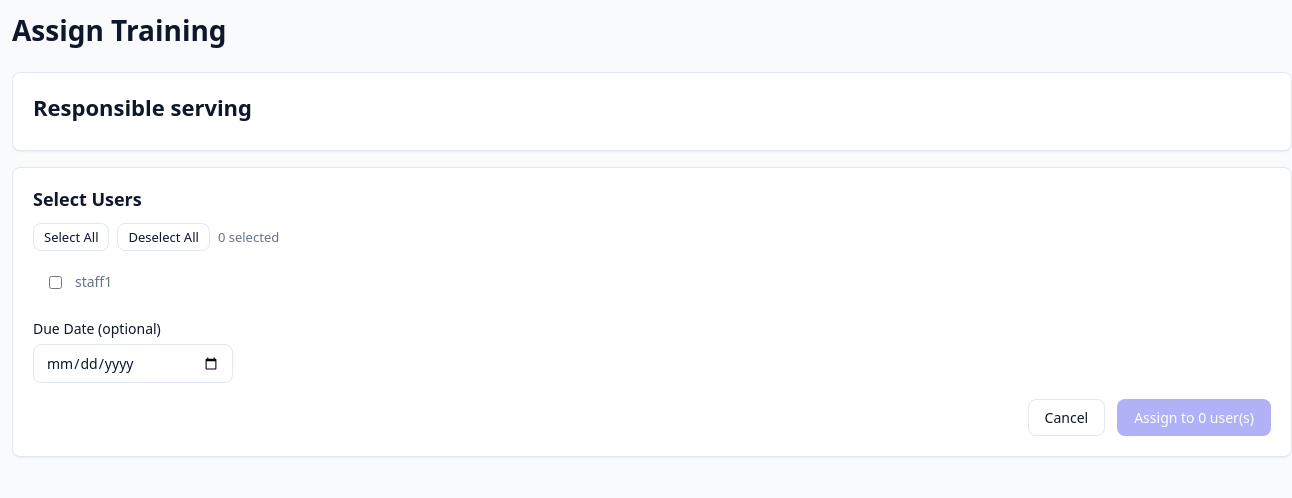
Test: TrainingAssignView › shows a validation message when trying to assign without selecting users
The width and height of the screenshot is (1292, 498).
Check: the heading "Responsible serving" is shown, box [33,92,252,122]
What coordinates should you click on to do the following:
click the button "Select All"
I would click on:
 (71, 237)
Its box is [33,223,110,251].
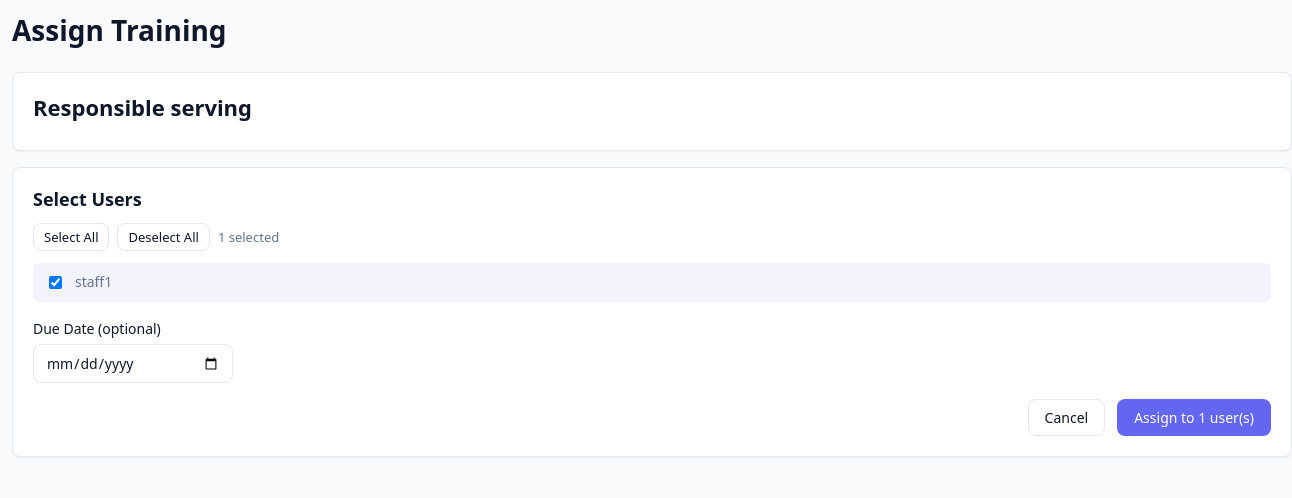
What coordinates should you click on to do the following:
click the button "Deselect All"
I would click on:
 (164, 237)
Its box is [118,223,210,251].
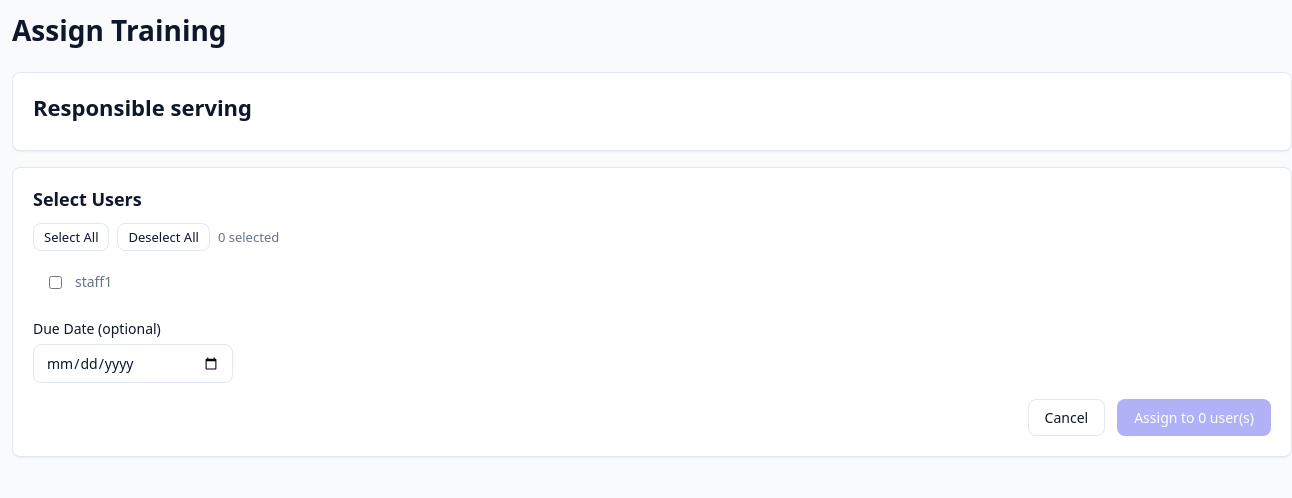
What coordinates should you click on to do the following:
click the button "Assign to 0 user(s)"
I would click on:
 (1194, 418)
Its box is [1117,399,1271,436].
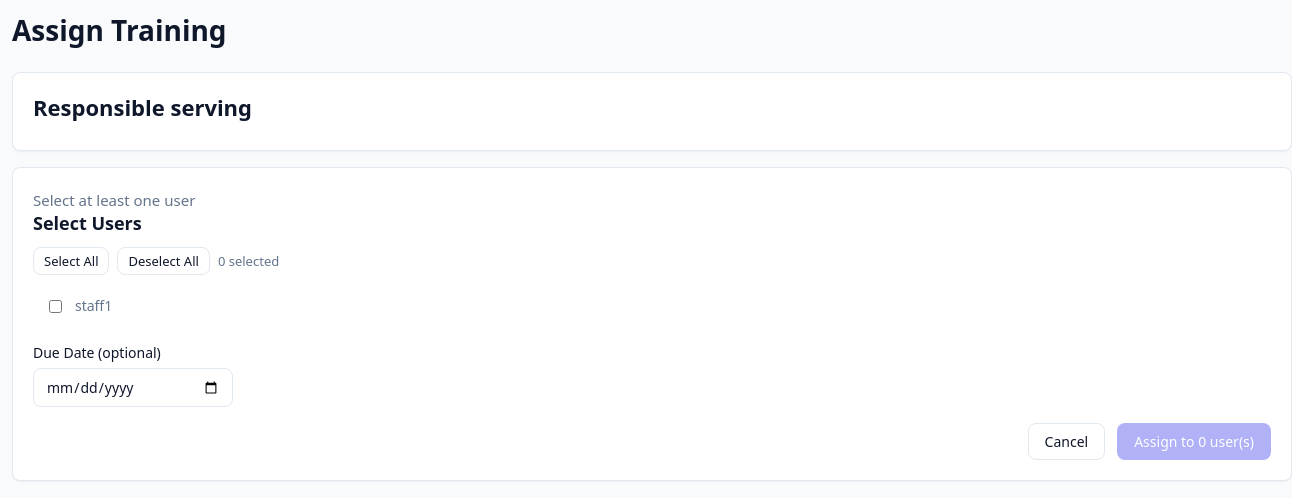
Check: the text "Select at least one user" is shown, box [33,190,195,210]
